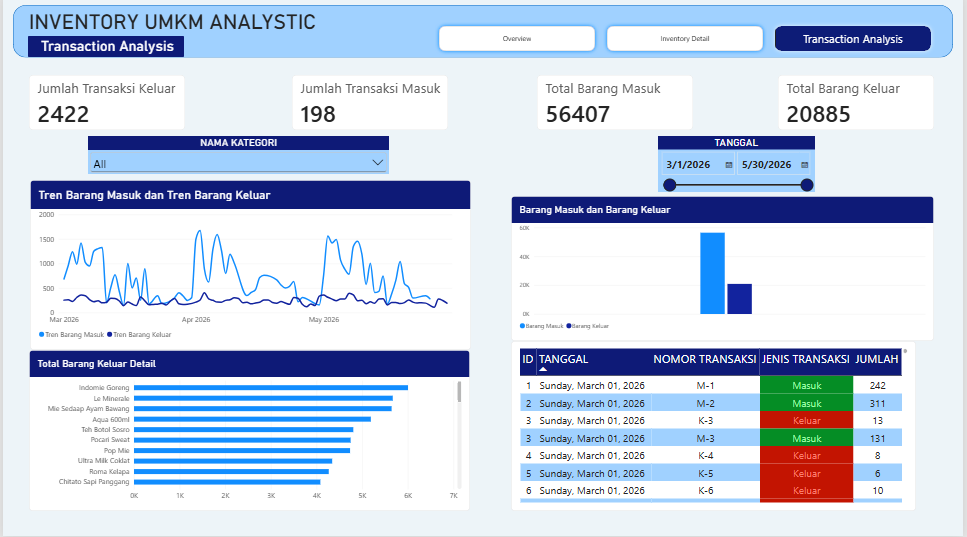

This screenshot's page, from the dashboard's own definition file:
{"tool":"powerbi","page":{"name":"Transaction Analysis","canvas":[1920,1080],"ordinal":4},"visuals":[{"type":"cardVisual","fields":{"Data":["barang.Jumlah Transaksi Keluar"]},"box":[52.5,157.5,312.5,110],"z":0},{"type":"cardVisual","fields":{"Data":["barang.Jumlah Transaksi Masuk"]},"box":[577,158.7,312.5,110],"z":1000},{"type":"cardVisual","fields":{"Data":["barang.Total Barang Masuk"]},"box":[1068.3,158.7,312.5,110],"z":2000},{"type":"cardVisual","fields":{"Data":["barang.Total Barang Keluar"]},"box":[1549.6,158.7,312.5,110],"z":3000},{"type":"clusteredBarChart","title":"Total Barang Keluar Detail","fields":{"Category":["barang.nama_barang"],"Y":["detail_transaksi.Total Barang Keluar Detail"]},"box":[52,708,882,322],"z":4000},{"type":"lineChart","title":"Tren Barang Masuk dan Tren Barang Keluar ","fields":{"Category":["DimTanggal.Date.Variation.Date Hierarchy.Year","DimTanggal.Date.Variation.Date Hierarchy.Quarter","DimTanggal.Date.Variation.Date Hierarchy.Month","DimTanggal.Date.Variation.Date Hierarchy.Day"],"Y":["transaksi_masuk.Tren Barang Masuk","transaksikeluar.Tren Barang Keluar"]},"box":[54,368,881.9,340.2],"z":5000},{"type":"clusteredColumnChart","title":"Barang Masuk dan Barang Keluar","fields":{"Y":["Sum(transaksi_masuk.total_jumlah)","Sum(transaksikeluar.total_jumlah)"]},"box":[1016,400,846,290],"z":6000},{"type":"tableEx","fields":{"Values":["Riwayat_Transaksi.transaksi_id","Riwayat_Transaksi.tanggal","Riwayat_Transaksi.Nomor Transaksi","Riwayat_Transaksi.Jenis Transaksi","Sum(Riwayat_Transaksi.total_jumlah)"]},"box":[1016,690,810,340],"z":7000},{"type":"slicer","title":"TANGGAL","fields":{"Values":["DimTanggal.Date"]},"box":[1310,280,314,112],"z":8000},{"type":"shape","box":[20,17.5,1880,105],"z":9000},{"type":"textbox","title":"INVENTORY UMKM ANALYSTIC","box":[52.5,25,620,52.5],"z":10000},{"type":"textbox","title":"Transaction Analysis","box":[50,80,312,42],"z":11000},{"type":"slicer","title":"NAMA KATEGORI","fields":{"Values":["kategori.nama_kategori"]},"box":[170,280,602.2,75.6],"z":12000},{"type":"pageNavigator","box":[864,52,1000,66.2],"z":12001}]}

Visuals, with their boxes in screenshot pixels (x1, y1, x2, y2), scaled from the page's 1920x1080 canvas onto the 967x537 screenshot:
cardVisual - barang.Jumlah Transaksi Keluar: 26, 78, 184, 133
cardVisual - barang.Jumlah Transaksi Masuk: 291, 79, 448, 134
cardVisual - barang.Total Barang Masuk: 538, 79, 695, 134
cardVisual - barang.Total Barang Keluar: 780, 79, 938, 134
"Total Barang Keluar Detail" clusteredBarChart: 26, 352, 470, 512
"Tren Barang Masuk dan Tren Barang Keluar " lineChart: 27, 183, 471, 352
"Barang Masuk dan Barang Keluar" clusteredColumnChart: 512, 199, 938, 343
tableEx - Riwayat_Transaksi.transaksi_id x Riwayat_Transaksi.tanggal: 512, 343, 920, 512
"TANGGAL" slicer: 660, 139, 818, 195
shape: 10, 9, 957, 61
"INVENTORY UMKM ANALYSTIC" textbox: 26, 12, 339, 39
"Transaction Analysis" textbox: 25, 40, 182, 61
"NAMA KATEGORI" slicer: 86, 139, 389, 177
pageNavigator: 435, 26, 939, 59
